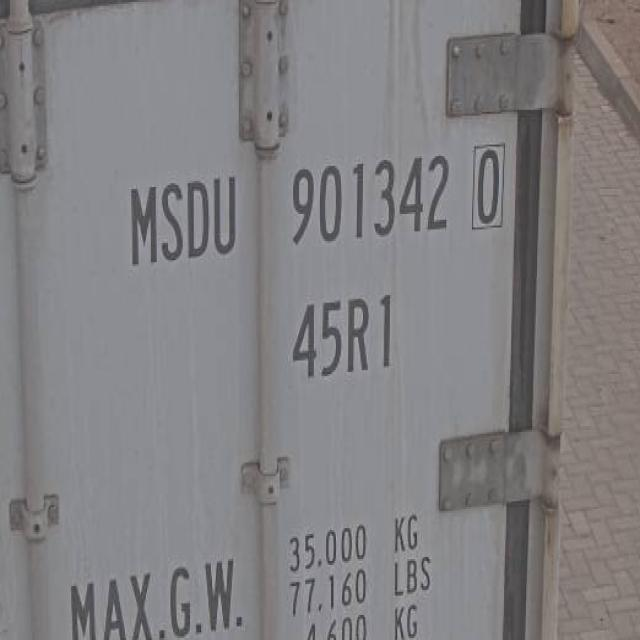dv: (468, 133, 510, 239)
owner: (120, 165, 248, 276)
serial: (279, 133, 452, 262)
size: (287, 290, 400, 386)
